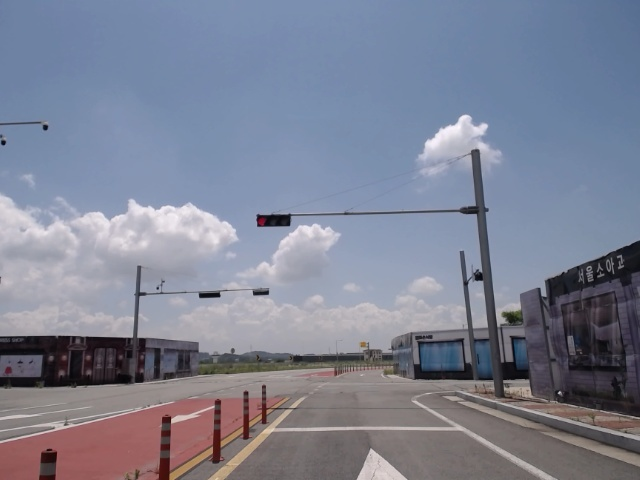red_3: (255, 213, 293, 227)
